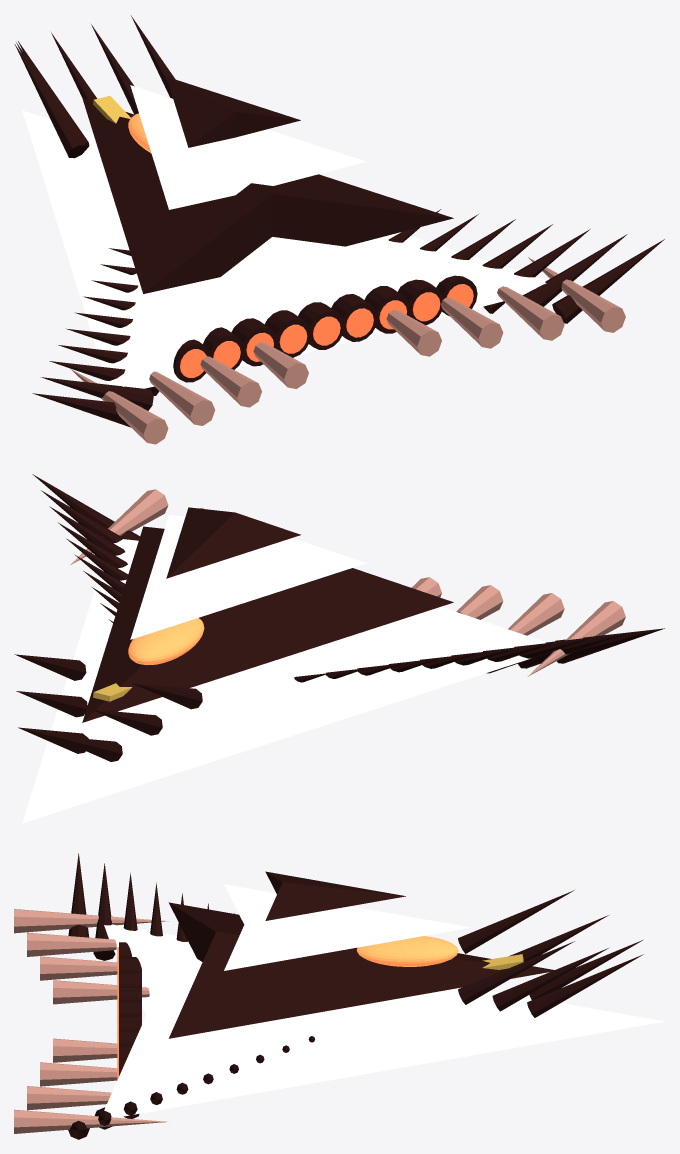
Rendered from ashkari_titan.glb.
3 views of the same model, one above another, from view 1: azimuth 30°, elevation 25°; view 2: azimuth 150°, elevation 25°; view 3: azimuth 270°, elevation 25° (orthographic). The views are drawn at different scales.
Visible parts, largest first — view 1: ashkari_titan; view 2: ashkari_titan; view 3: ashkari_titan.
Boxes of the visible parts, box(x1,y1,x2,y2) form: ashkari_titan: box(14, 15, 664, 444); ashkari_titan: box(14, 474, 664, 823); ashkari_titan: box(14, 853, 665, 1139).
Bounding box in the file's own units: 10.1 × 2.99 × 10.
